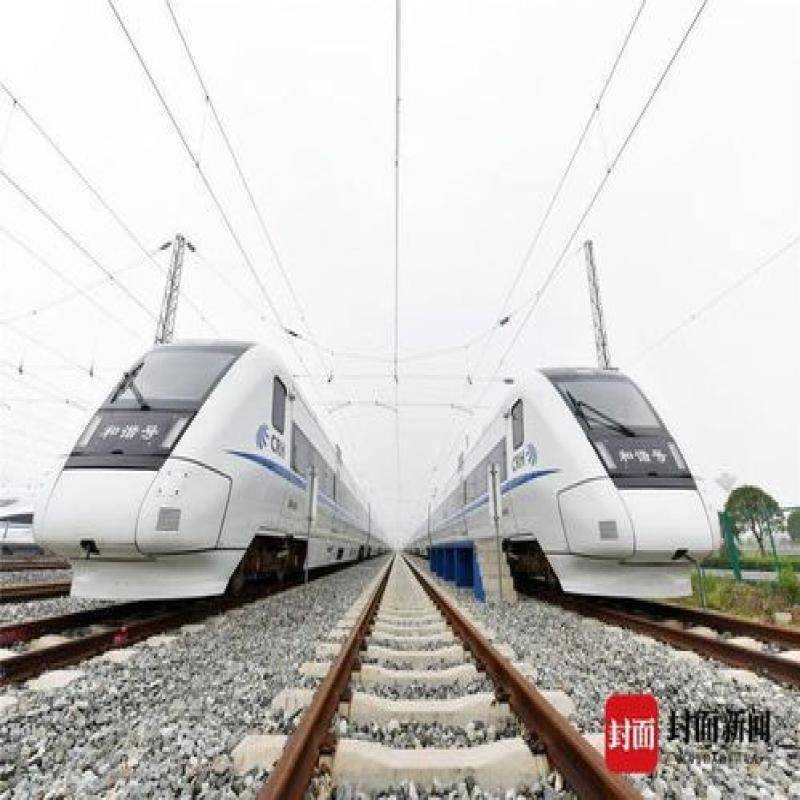train: (64, 337, 376, 590), (431, 364, 724, 599)
